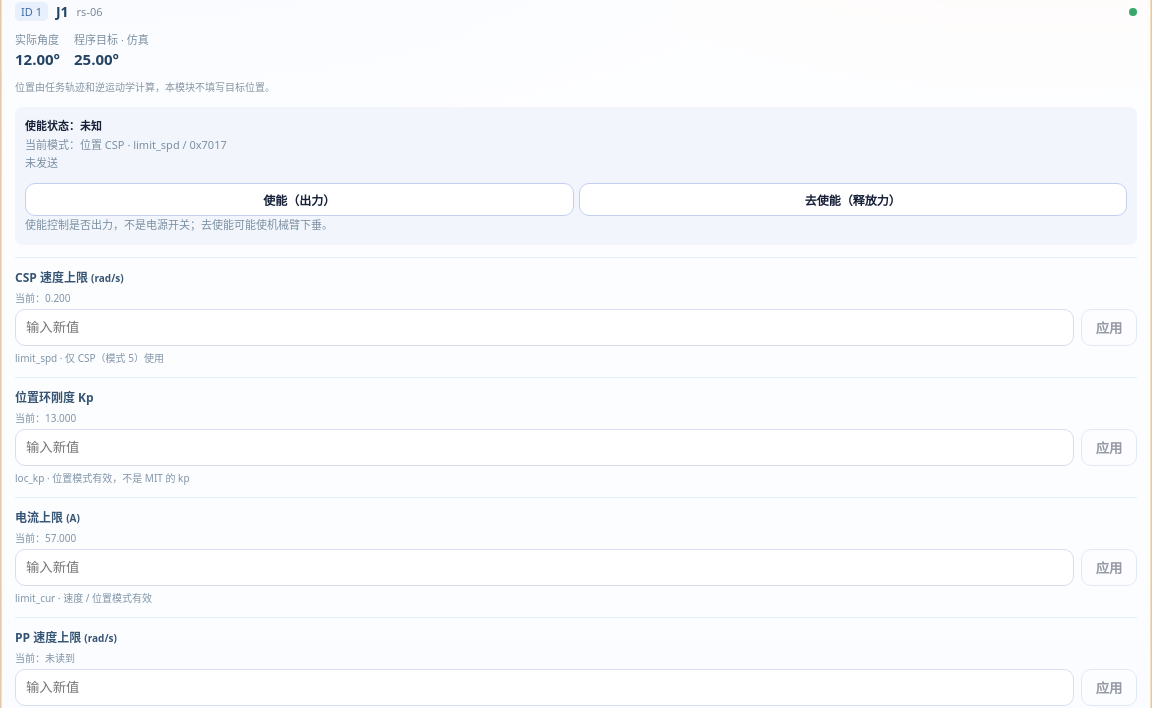
Test: motor configuration module › writes a stiffness register without any position target
Type "12" into the number field labelled "位置环刚度 Kp" at (544,447), box [15, 429, 1074, 466]
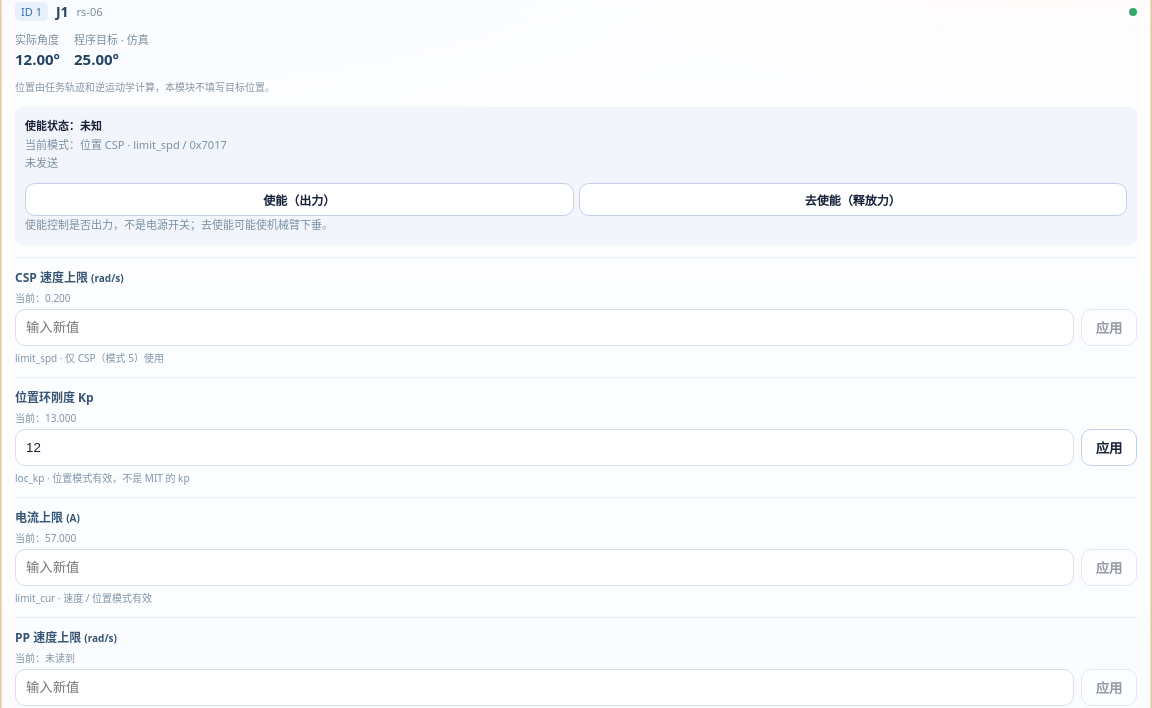
Click the 2nd button "应用" at (1109,447), box [1081, 429, 1137, 466]
(page scrolled)
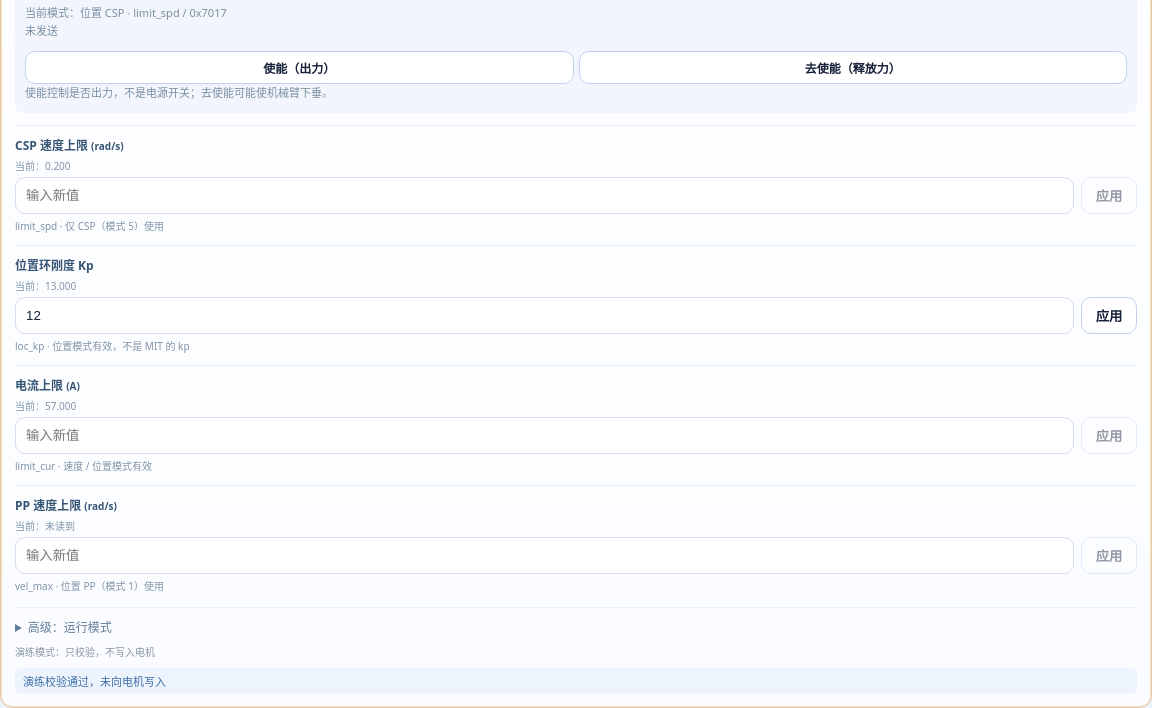
Now the text "演练校验通过，未向电机写入" is shown, box [15, 668, 1137, 694]
